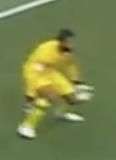goalkeeper: (4, 19, 100, 150)
